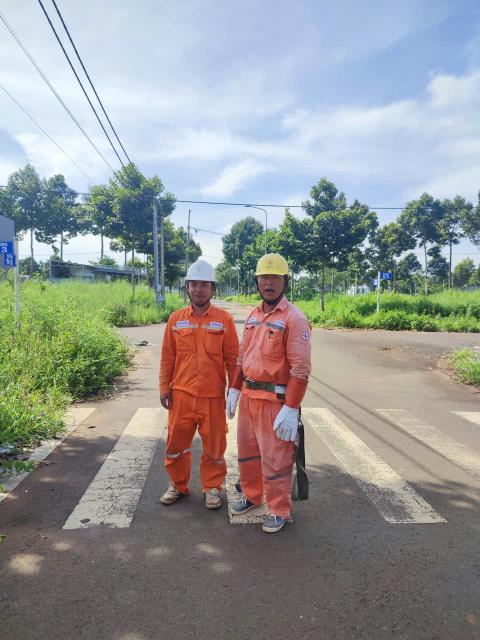gloves: (273, 404, 301, 443), (218, 383, 244, 422)
harness: (233, 371, 299, 401)
helmet: (248, 247, 298, 286), (178, 259, 221, 286)
shoes: (256, 503, 290, 536), (151, 478, 187, 507), (230, 485, 258, 516), (195, 484, 221, 512)
